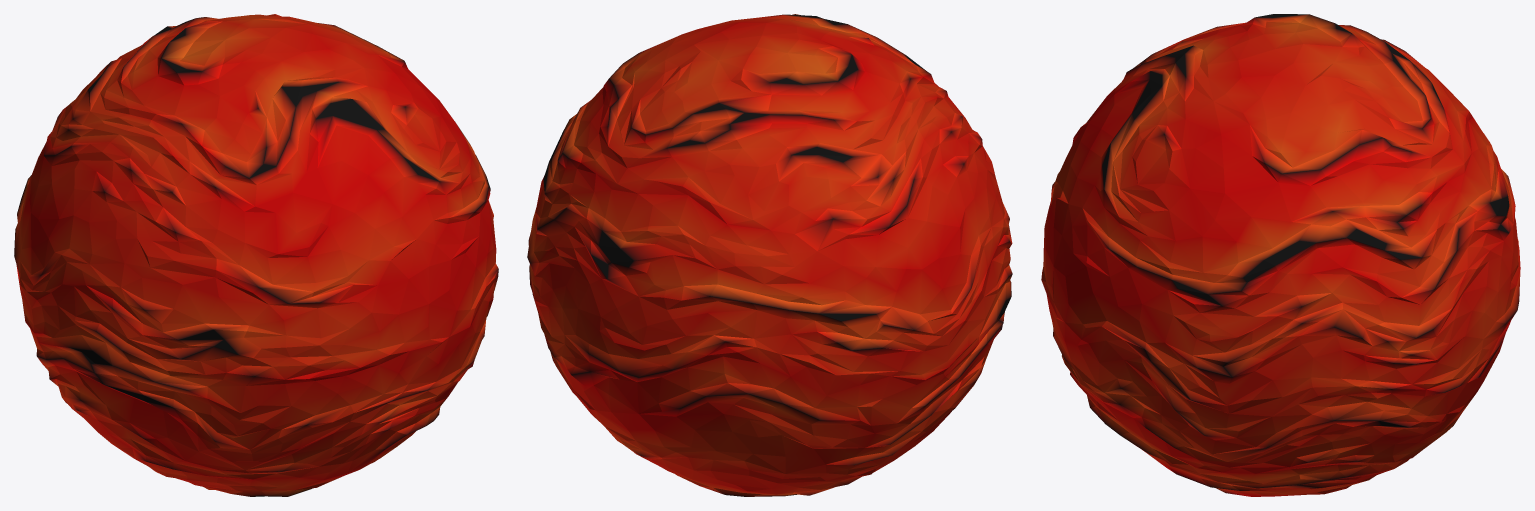
Rendered from volcanic_planet_4.fbx.
3 renders of one model, left to right at view 1: azimuth 30°, elevation 25°; view 2: azimuth 150°, elevation 25°; view 3: azimuth 270°, elevation 25°, orthographic.
Parts seen in each view (by area): view 1: filecache2; view 2: filecache2; view 3: filecache2.
Part boxes in pixels (x1,y1,x2,y2): filecache2: (14, 14, 498, 496); filecache2: (527, 14, 1012, 496); filecache2: (1041, 14, 1520, 496).
Size of the model in its own units: 2.02 by 2.02 by 2.02.
